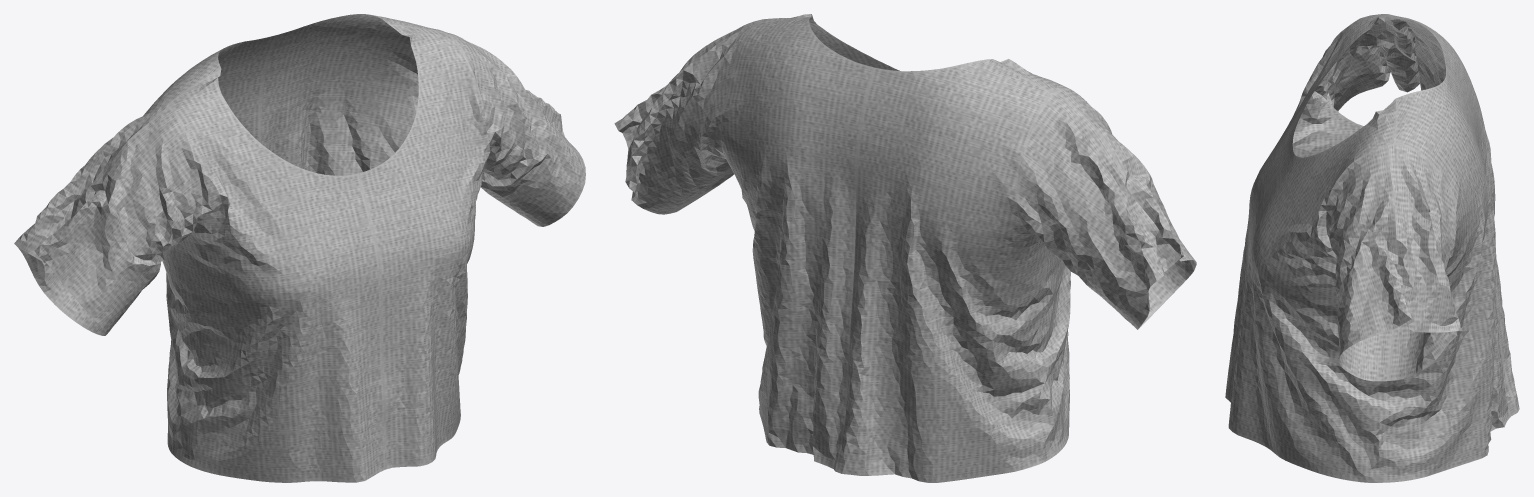
Rendered from baseline_sim.obj.
3 renders of one model, left to right at view 1: azimuth 30°, elevation 25°; view 2: azimuth 150°, elevation 25°; view 3: azimuth 270°, elevation 25°, orthographic. The views are drawn at different scales.
Size of the model in its own units: 67.41 by 45.58 by 33.28.
Materials: 1 (1 with a texture image).
